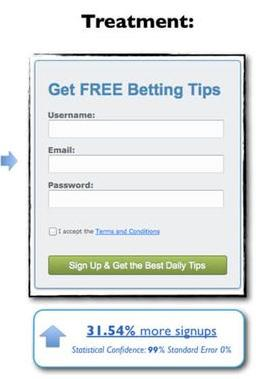button: (47, 254, 230, 276)
checkbox: (48, 226, 61, 239)
checkbox_with_label: (46, 224, 160, 240)
field: (46, 119, 225, 140), (47, 188, 226, 209), (47, 153, 226, 173)
field_with_label: (44, 110, 227, 141), (45, 146, 228, 175), (45, 181, 228, 210)
